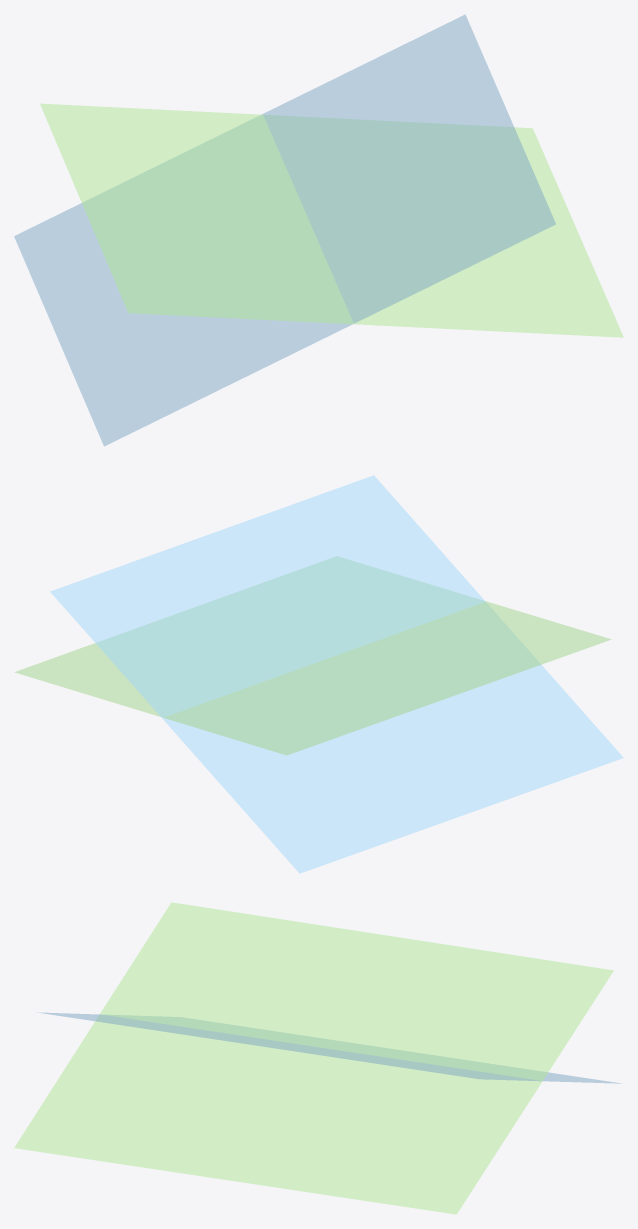
File: intersecao_planos.glb
3 views of the same model, one above another, from view 1: azimuth 30°, elevation 25°; view 2: azimuth 150°, elevation 25°; view 3: azimuth 270°, elevation 25° (orthographic). The views are drawn at different scales.
Bounding box in the file's own units: 13.21 × 4.11 × 12.98.
